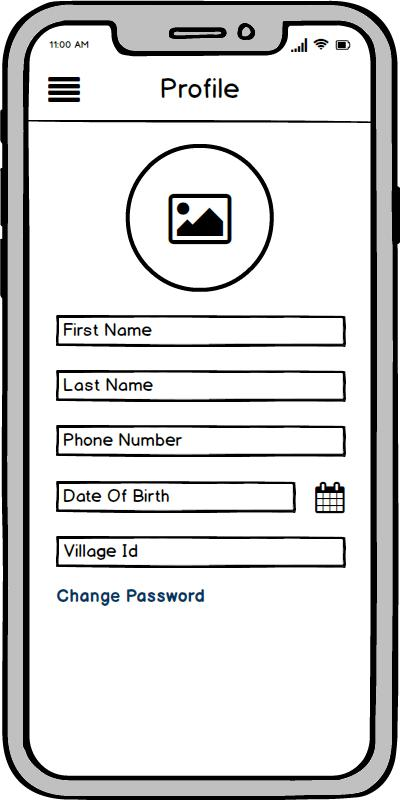EditText: (56, 369, 347, 403), (56, 535, 347, 569), (56, 315, 347, 348), (56, 425, 347, 458), (56, 480, 297, 514)
Icon: (313, 481, 346, 515), (48, 77, 82, 103)
Image: (124, 144, 276, 294)
Text: (57, 588, 206, 609), (161, 77, 240, 100)
Toolbar: (30, 58, 370, 121)
